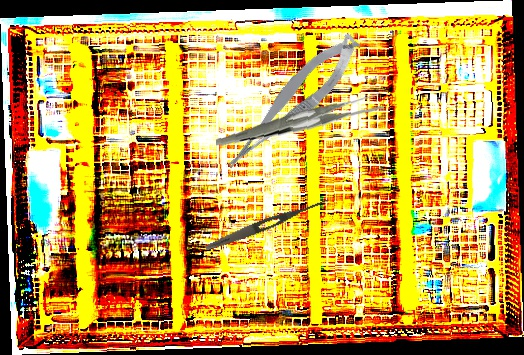Dressing Forceps: (215, 81, 386, 158), (203, 193, 330, 255)
Micro Scissor: (209, 28, 373, 176)
